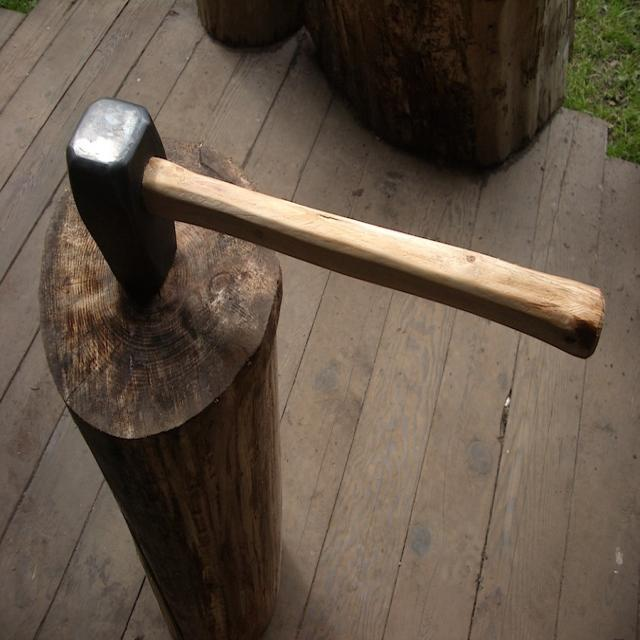hammer: (64, 81, 612, 382)
